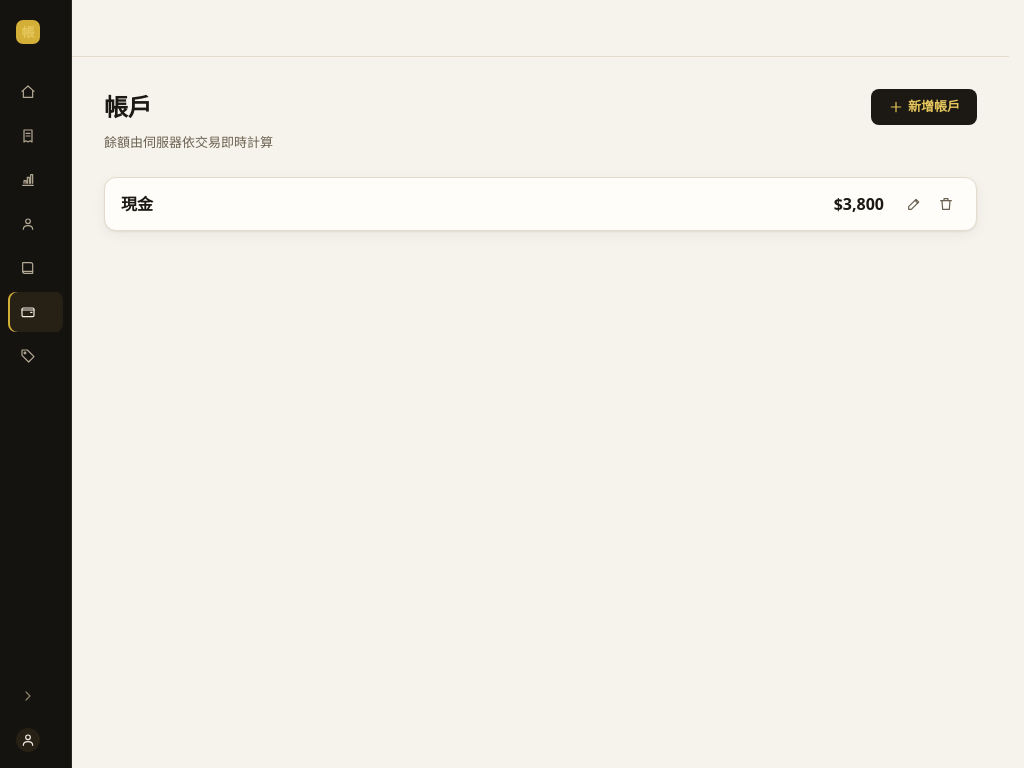
Accounts page header actions › opens the form in the right panel and still reports aria-expanded
Click the button "新增帳戶": [924, 107] box [871,89,977,125]
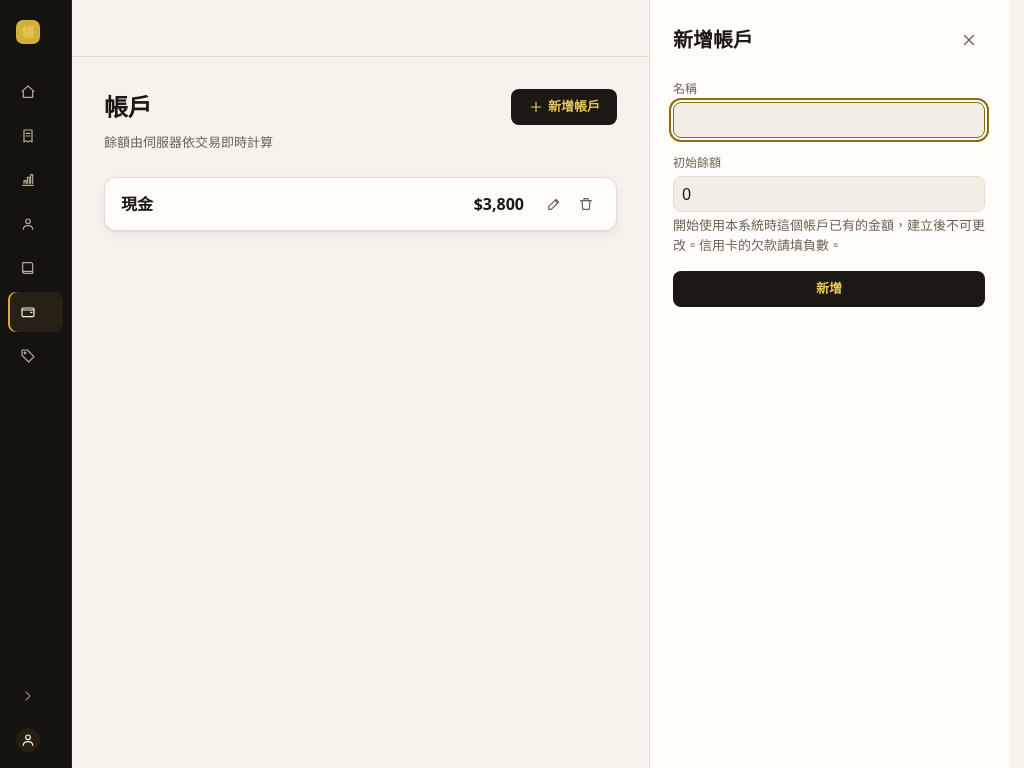
Check: the button "新增帳戶" is expanded, box [511,89,617,125]
